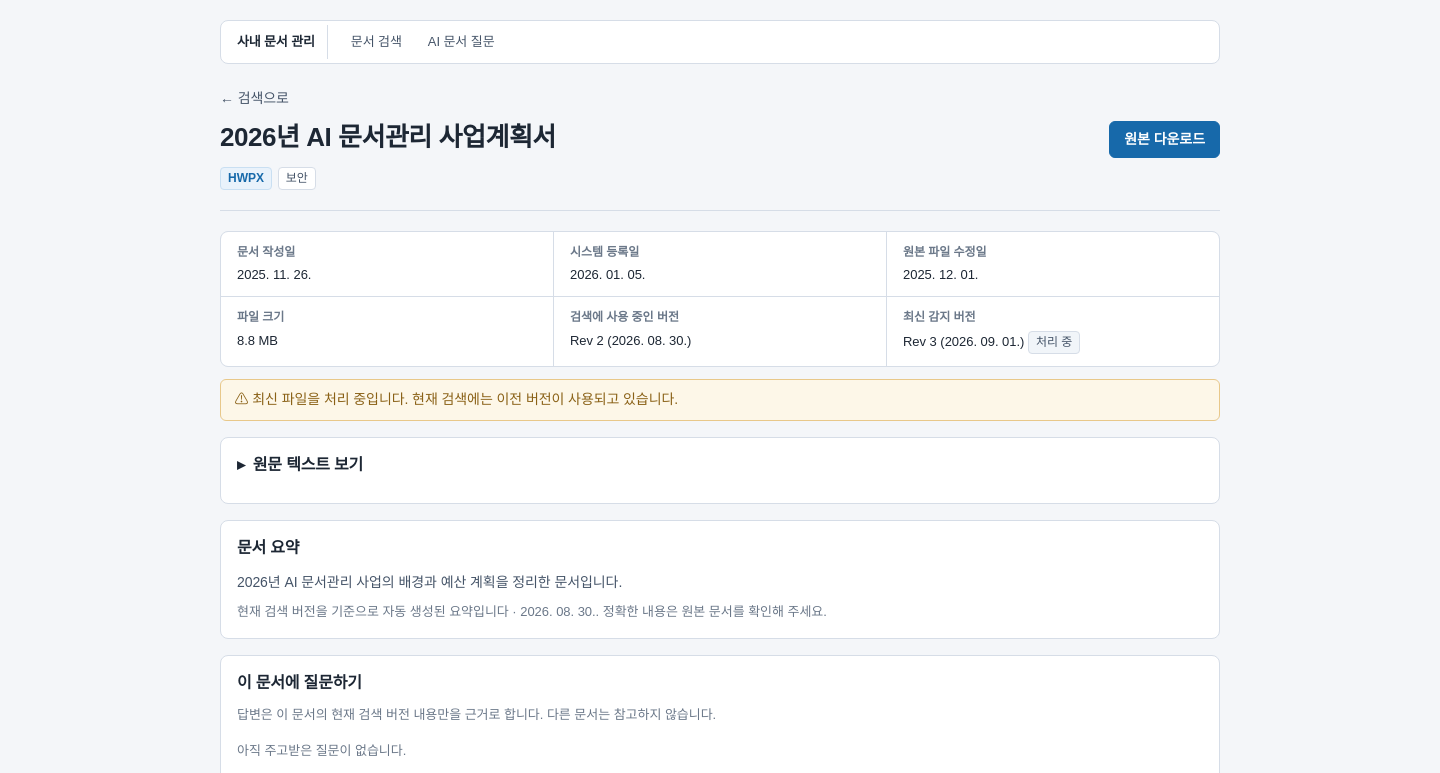
DocumentPage › uses the login state when authentication expires during download
The width and height of the screenshot is (1440, 773).
Click the button "원본 다운로드" at (1165, 140), box [1109,121,1220,158]
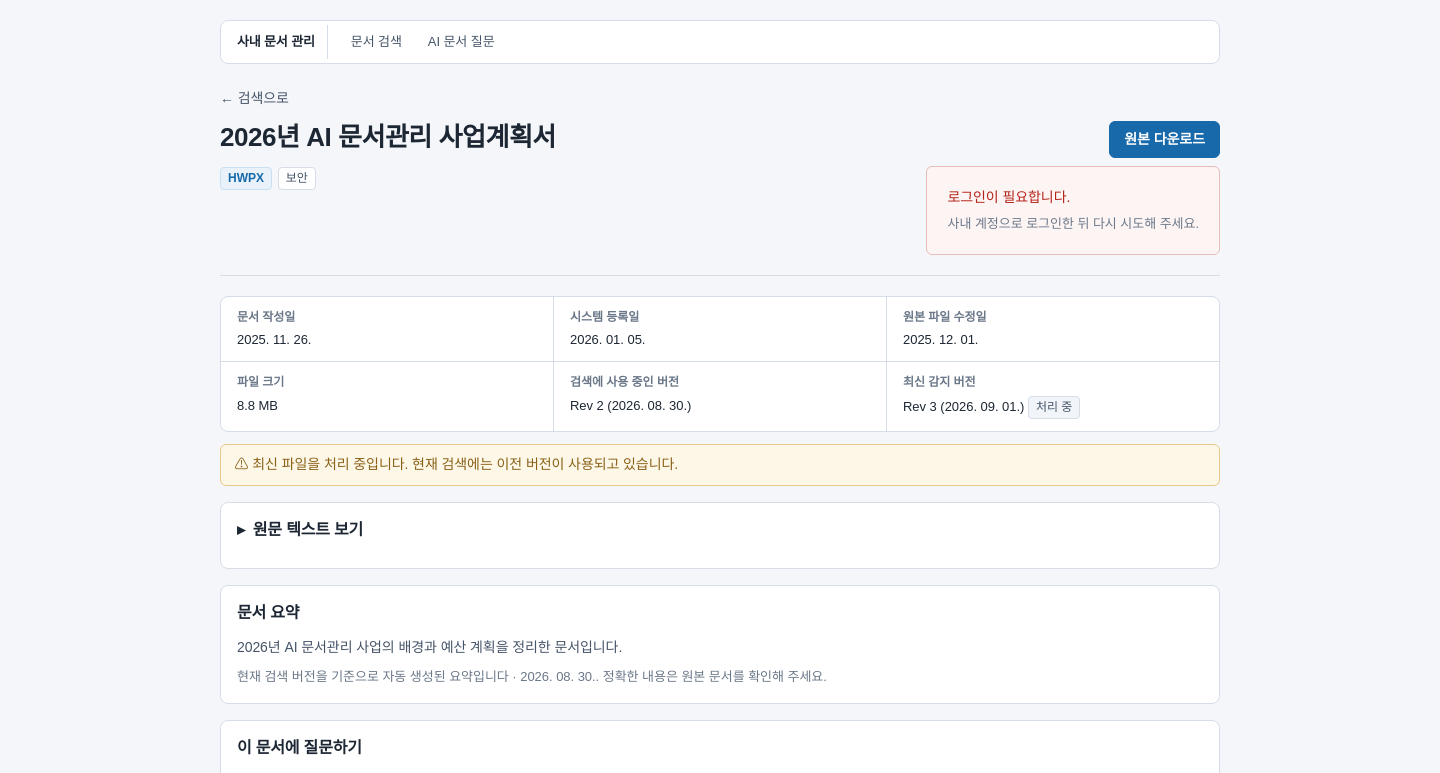
expect the message "로그인이 필요합니다. 사내 계정으로 로그인한 뒤 다시 시도해 주세요." is shown: met, box [926,166,1220,254]
